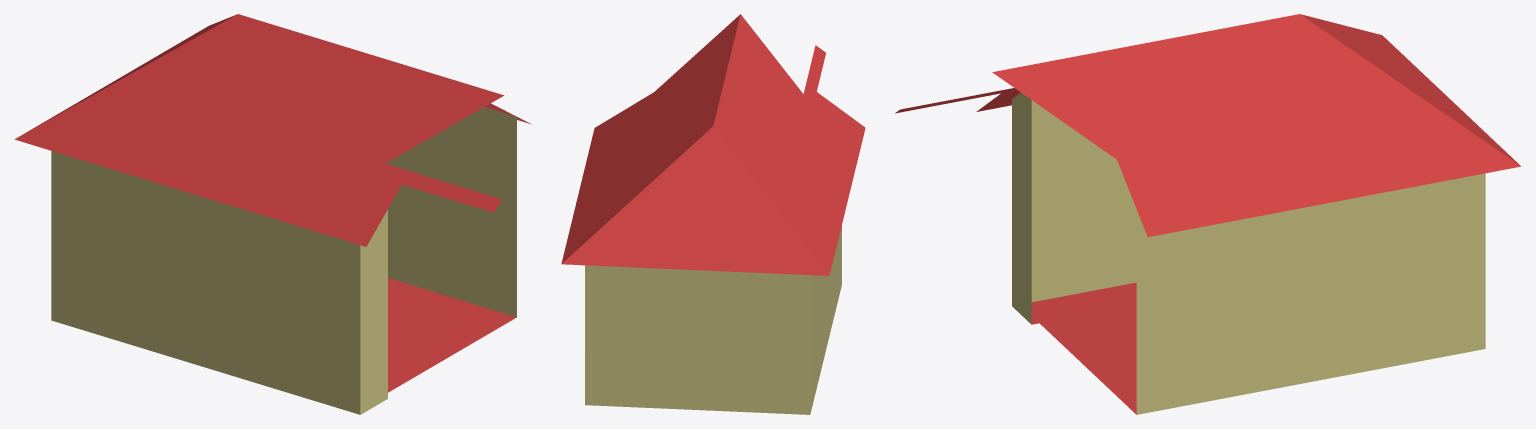
3 renders of one model, left to right at view 1: azimuth 30°, elevation 25°; view 2: azimuth 150°, elevation 25°; view 3: azimuth 270°, elevation 25°, orthographic. The views are drawn at different scales.
Bounding box in the file's own units: 17.57 × 23.04 × 12.21.
